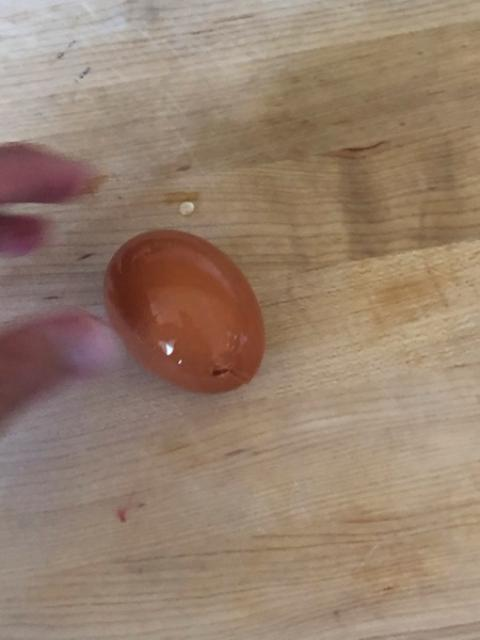Roto: (101, 227, 266, 395)
